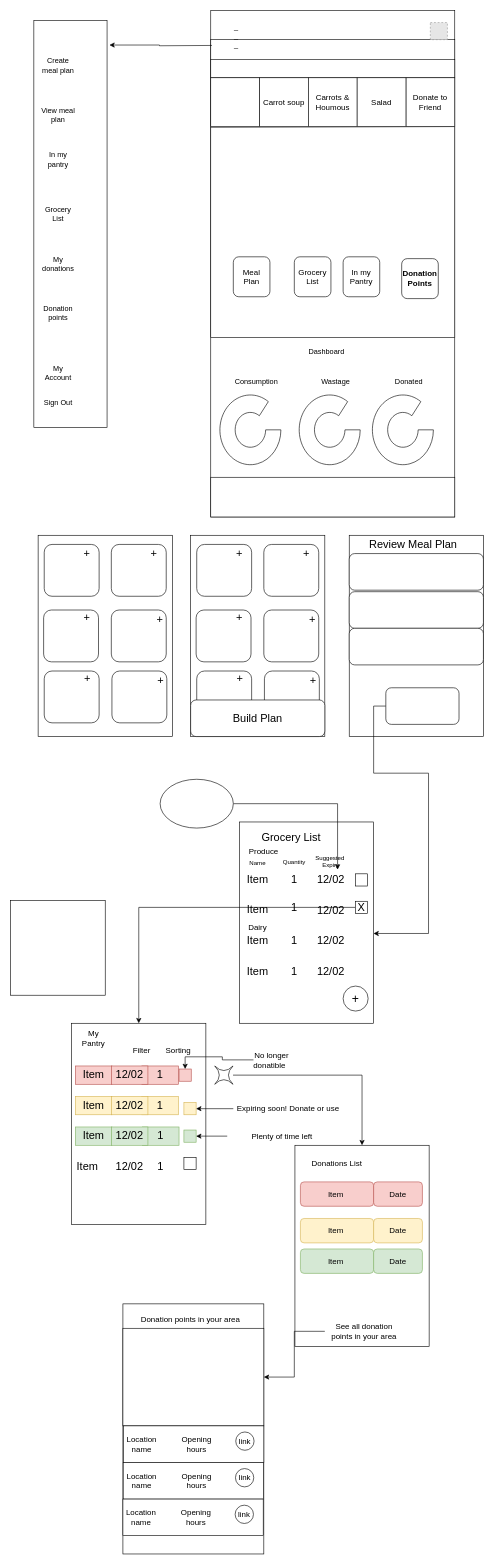
Some shapes in this 494 by 1565 pixel diagram are drawn without their labels. Grey dashed boxes stand in for pictures. Each missing label, with the box of its shape:
Carrot cake: (210, 77, 260, 127)
Complete: (385, 687, 459, 724)
Map with food banks points: (122, 1328, 264, 1426)
On click is editable: (160, 779, 233, 828)
Random changing fact about food wastage: (210, 477, 455, 517)
Recipe Category: (10, 900, 105, 995)
Your carrots are about to expire in 2 days: (210, 59, 455, 78)
